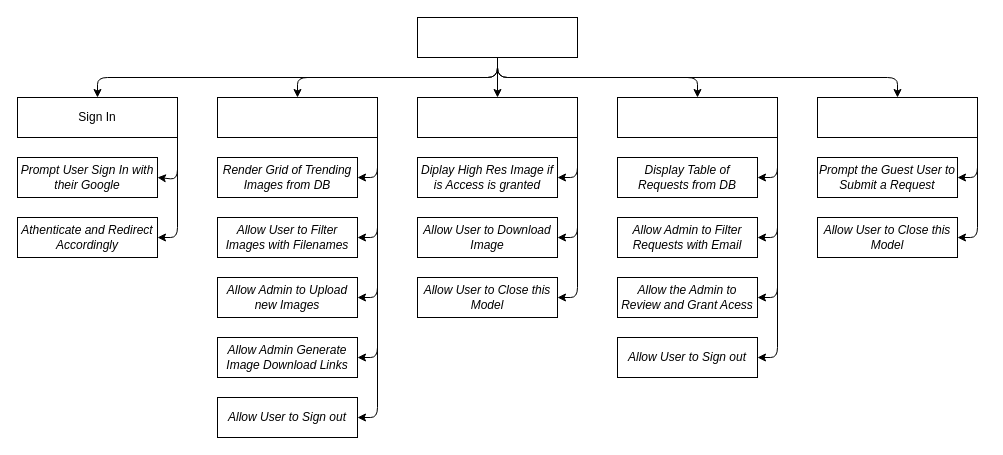
Some shapes in this 1003 by 455 pixel diagram are drawn without their labels. Each missing label, with the centre of its shape:
"Browse Images" belongs at pixel 297 117.
"Browse Requests" belongs at pixel 697 117.
"Image Details (Model)" belongs at pixel 497 117.
"Images Hub" belongs at pixel 497 37.
"Request Details (Model)" belongs at pixel 897 117.
